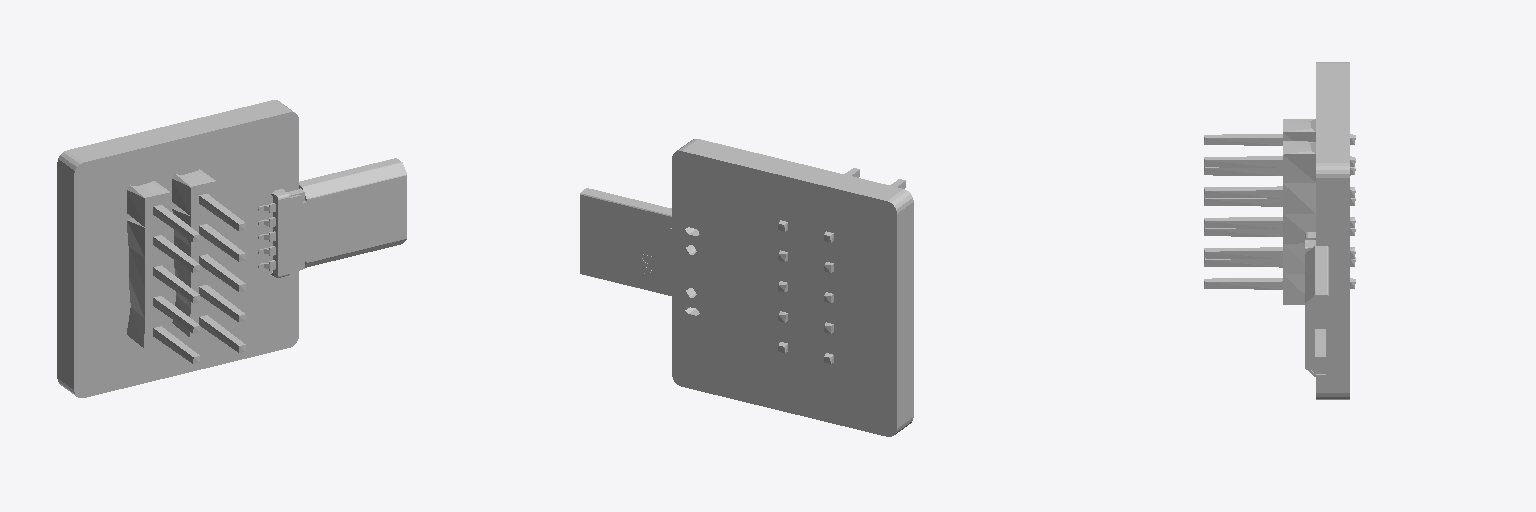
The model's file is OBJ_PCB_USB micro B male breakout.obj.
The picture shows the model from 3 angles: view 1: azimuth 30°, elevation 25°; view 2: azimuth 150°, elevation 25°; view 3: azimuth 270°, elevation 25°; orthographic projection.
Size of the model in its own units: 113 by 77.54 by 45.17.